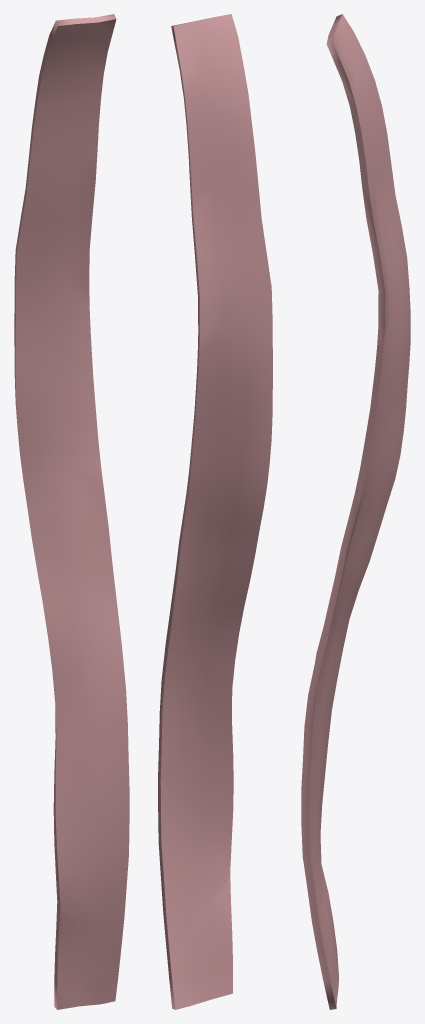
3 views of the same model, side by side, from view 1: azimuth 30°, elevation 25°; view 2: azimuth 210°, elevation 25°; view 3: azimuth 270°, elevation 25° (orthographic).
Visible parts, largest first — view 1: ZA_ea9854bf7d8ccc99; view 2: ZA_ea9854bf7d8ccc99; view 3: ZA_ea9854bf7d8ccc99.
Part boxes in pixels (x1,y1,x2,y2): ZA_ea9854bf7d8ccc99: (14, 14, 129, 1009); ZA_ea9854bf7d8ccc99: (158, 14, 272, 1009); ZA_ea9854bf7d8ccc99: (301, 14, 410, 1009).
Size of the model in its own units: 0.0327 by 0.4659 by 0.0477.
